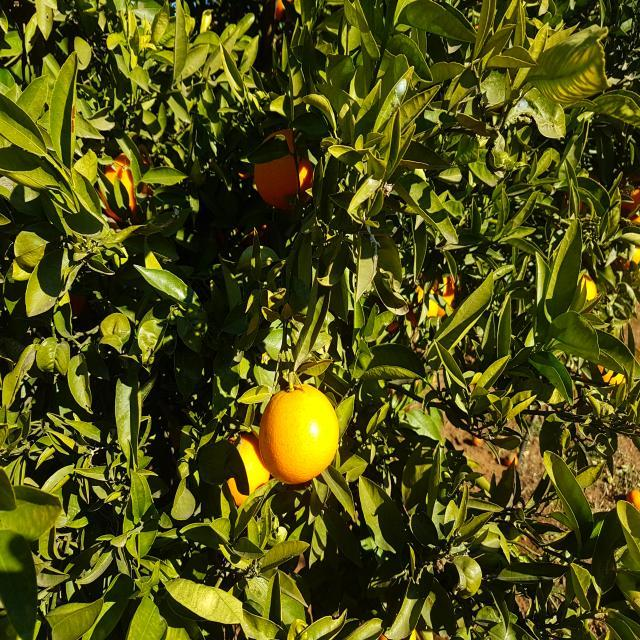Jeruk Sudah Matang: (259, 383, 341, 485), (256, 126, 314, 207), (100, 152, 153, 222), (222, 432, 272, 504), (409, 275, 456, 322), (596, 353, 628, 393), (574, 274, 597, 307), (622, 184, 640, 226), (618, 239, 640, 272), (274, 0, 291, 20), (630, 484, 640, 510), (506, 452, 520, 467), (473, 435, 484, 448)
